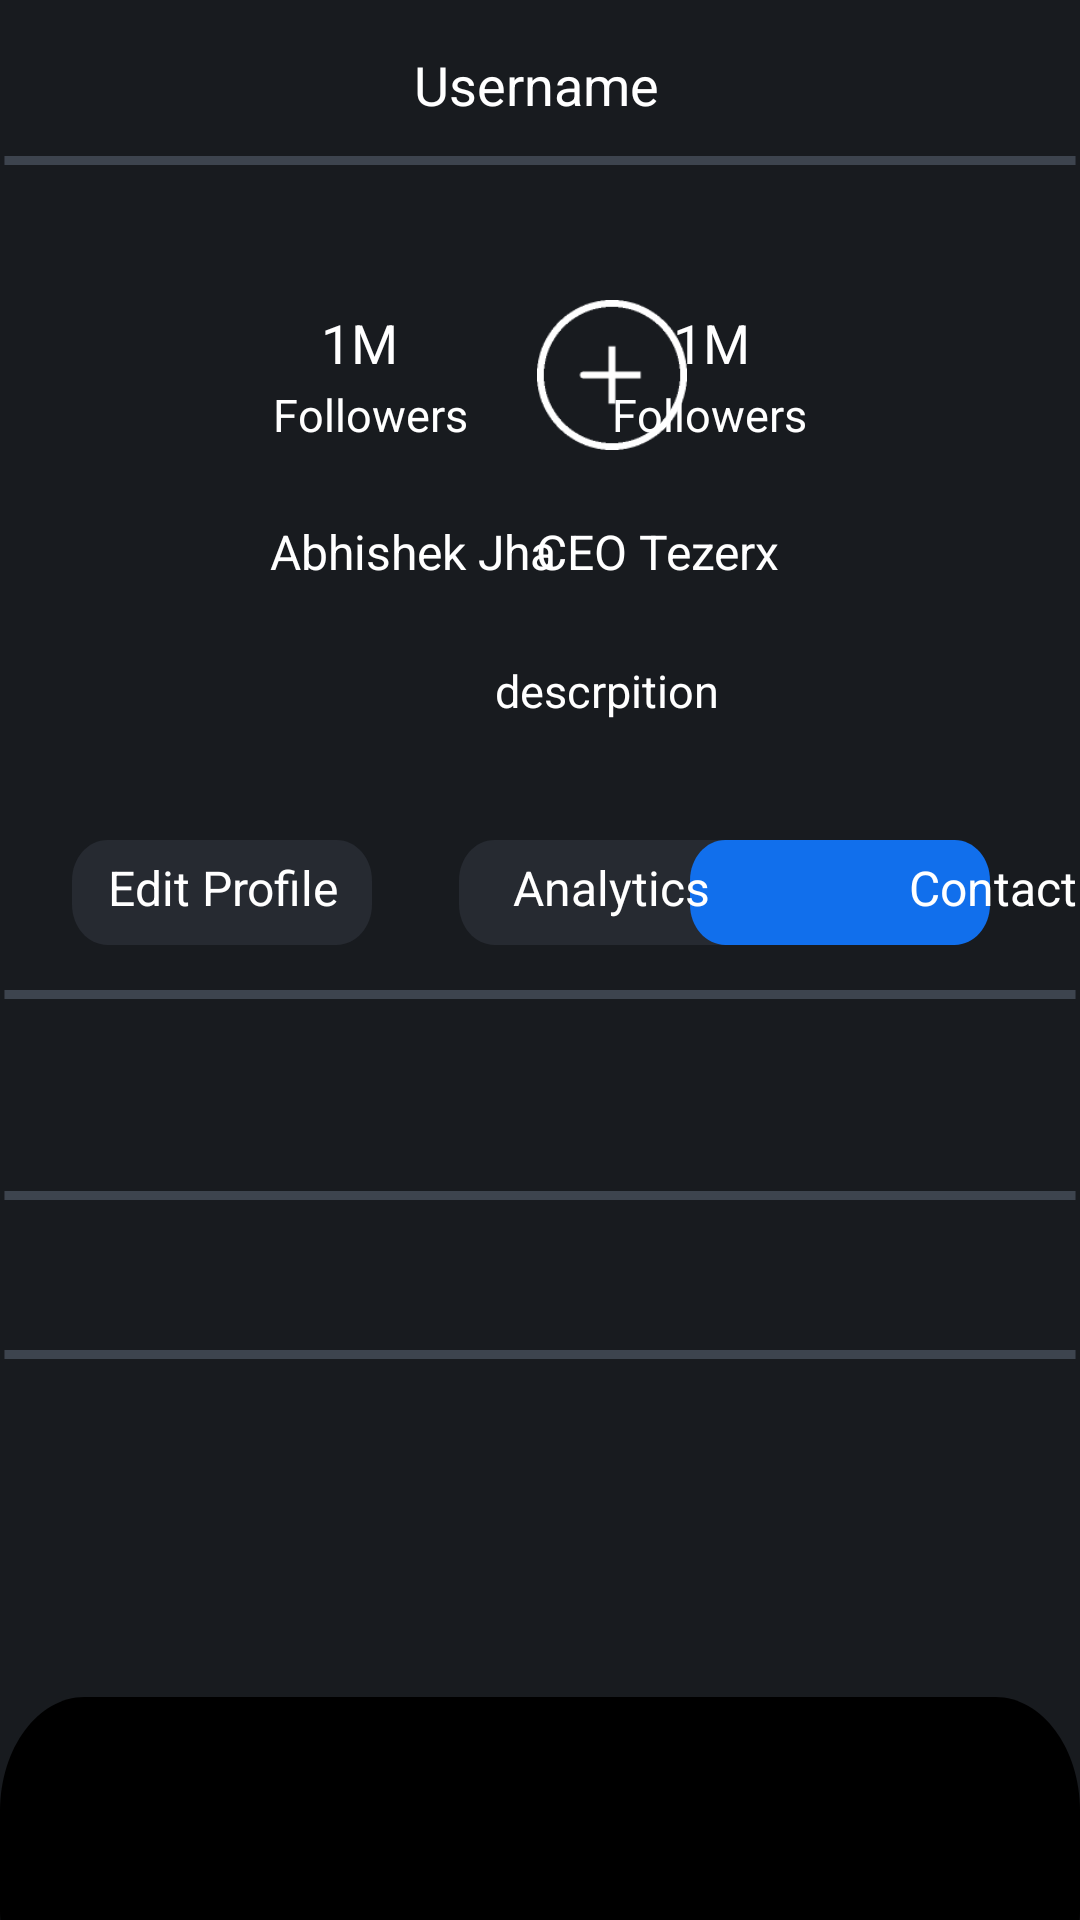

Locate icon controls on the screen. Image size 1080 x 1920, boxes as {"x1": x1, "y1": y1, "x2": x2, "y2": y2}.
add: {"x1": 537, "y1": 300, "x2": 687, "y2": 450}
